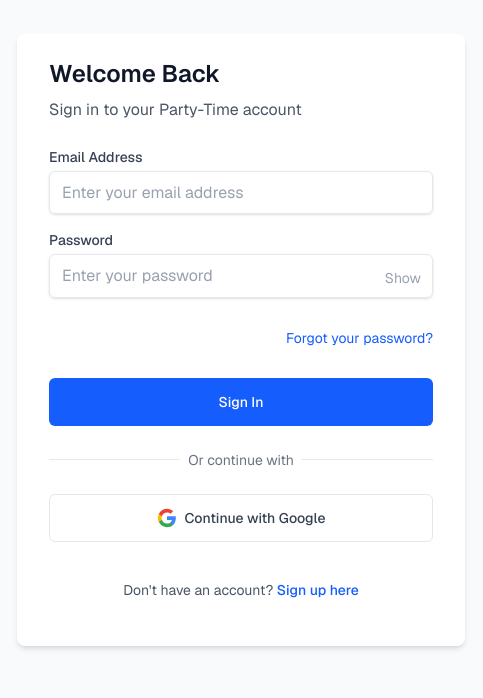
Test: Page Integration Tests › SignIn Page Integration › Error Handling › should display login errors
Type "test@example.com" into the field labelled "Email Address".
click(241, 193); type("test@example.com")  # box [49,171,433,214]
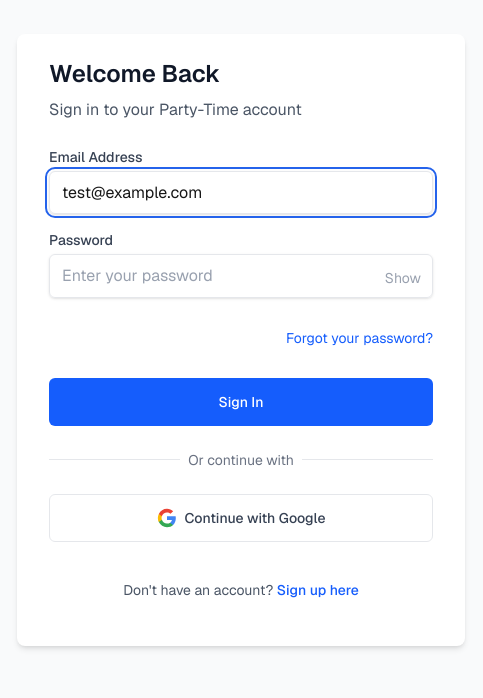
Type "wrongpassword" into the password field labelled "Password".
click(241, 276); type("wrongpassword")  # box [49,254,433,298]
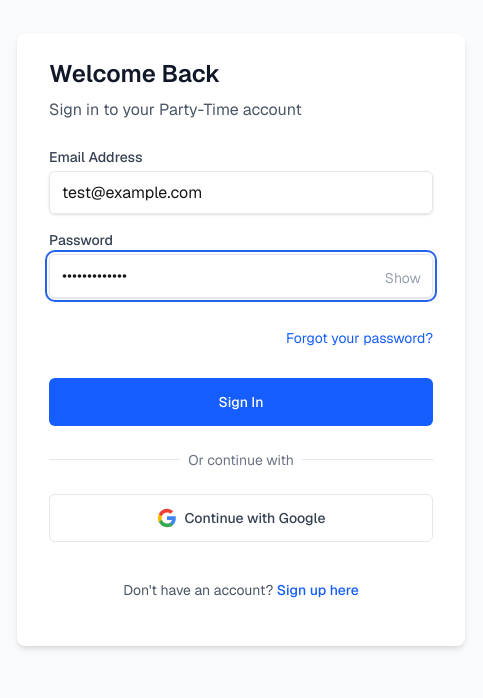
Click the button "Sign In".
click(241, 402)  # box [49,378,433,426]
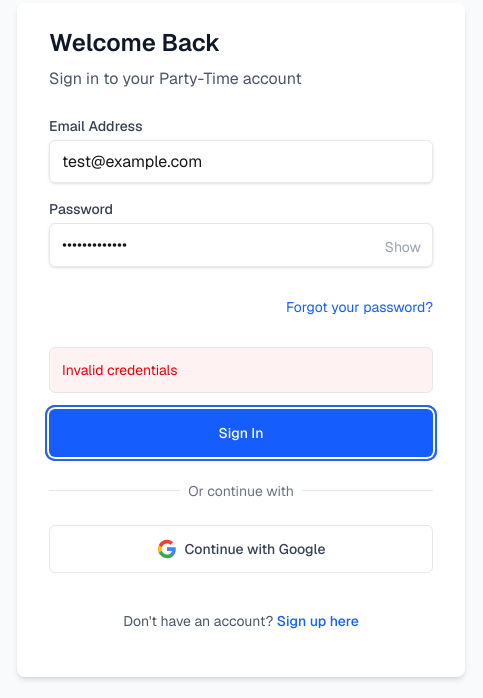
Result: the text "Invalid credentials" is shown at [62,361,178,379]
